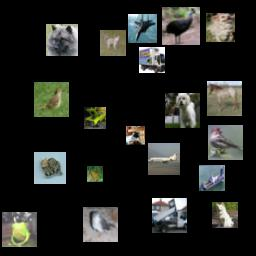airplane: (148, 143, 180, 175), (128, 14, 157, 43)
automobile: (84, 107, 106, 129)
bird: (162, 7, 200, 45), (34, 82, 69, 117), (83, 207, 118, 242), (208, 125, 243, 160)
cat: (34, 152, 66, 184), (126, 126, 145, 145)
dog: (165, 93, 200, 128), (46, 24, 78, 56), (206, 13, 235, 42), (212, 202, 238, 228), (100, 30, 126, 56)
frog: (2, 212, 37, 247), (87, 166, 103, 182)
ship: (199, 165, 225, 191)
truck: (152, 198, 187, 233), (139, 47, 165, 73)
